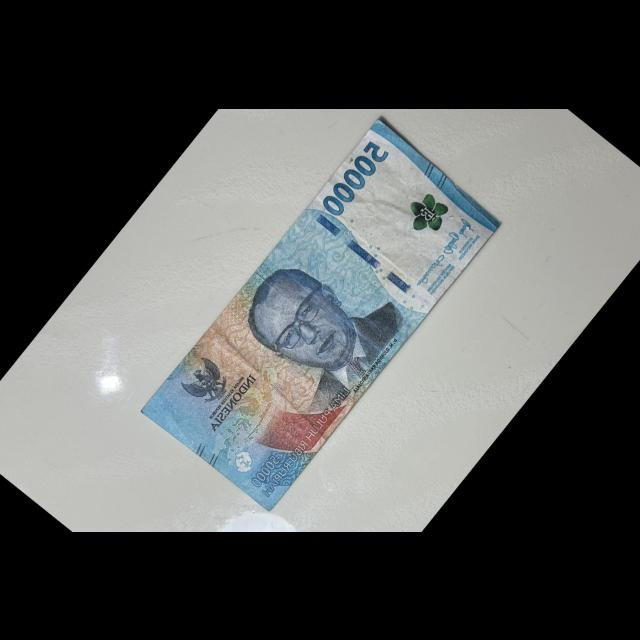Palsu-50k: (136, 112, 507, 516)
Tinta-Palsu-50k: (398, 185, 454, 242)
